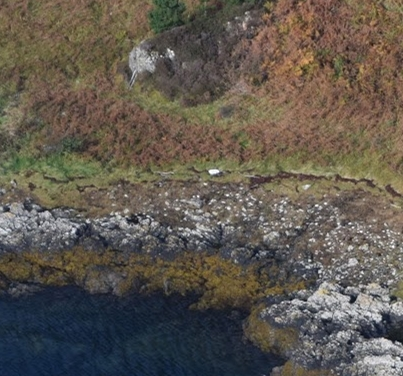white_in_green: (189, 152, 241, 193)
